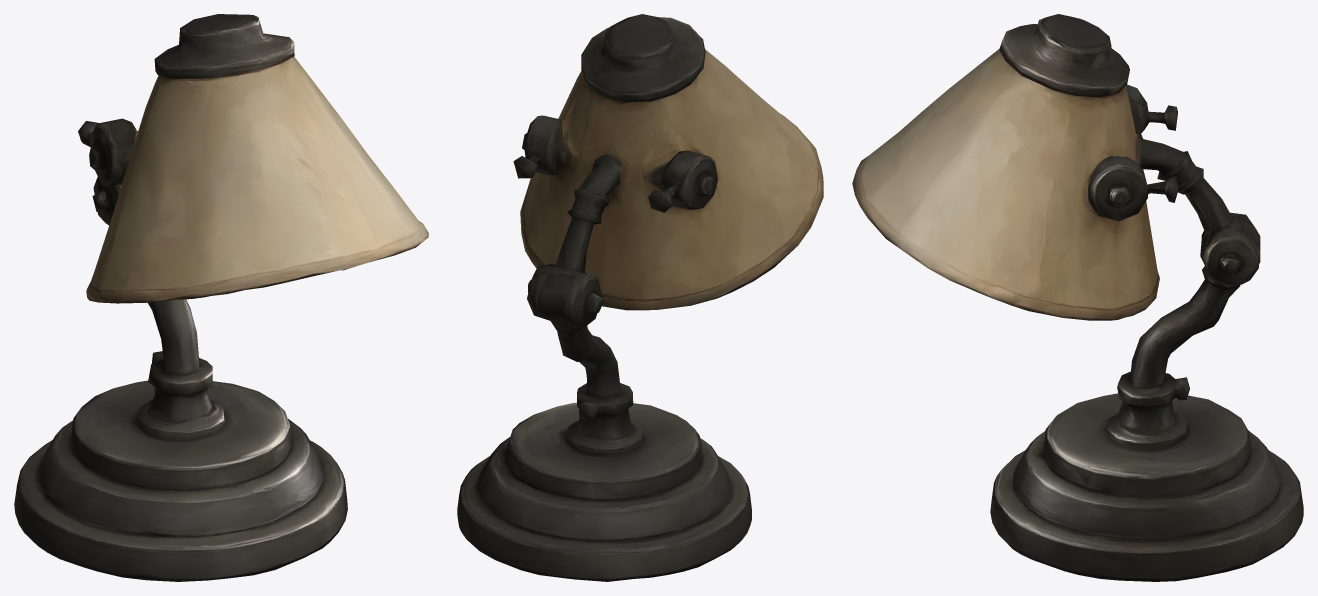
The model's file is desk+lamp+3d+model.glb.
3 views of the same model, side by side, from view 1: azimuth 30°, elevation 25°; view 2: azimuth 150°, elevation 25°; view 3: azimuth 270°, elevation 25° (orthographic). The views are drawn at different scales.
Parts seen in each view (by area): view 1: tripo_node_f2c94cae-14dc-4fc1-98aa-8f00d84cb82d; view 2: tripo_node_f2c94cae-14dc-4fc1-98aa-8f00d84cb82d; view 3: tripo_node_f2c94cae-14dc-4fc1-98aa-8f00d84cb82d.
Part boxes in pixels (x1=…): tripo_node_f2c94cae-14dc-4fc1-98aa-8f00d84cb82d: x1=14, y1=14, x2=428, y2=581; tripo_node_f2c94cae-14dc-4fc1-98aa-8f00d84cb82d: x1=457, y1=14, x2=823, y2=581; tripo_node_f2c94cae-14dc-4fc1-98aa-8f00d84cb82d: x1=852, y1=14, x2=1303, y2=581.
Bounding box in the file's own units: 0.5971 × 1 × 0.8249.
Materials: 1 (1 with a texture image).
